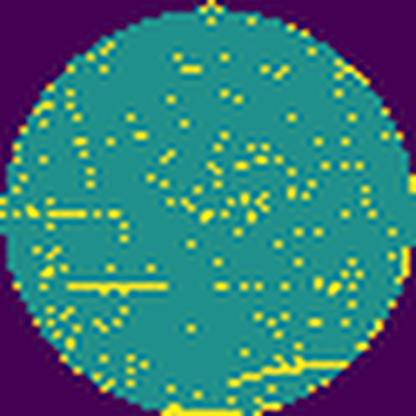Scratch: (226, 351, 350, 392), (63, 276, 174, 302)
